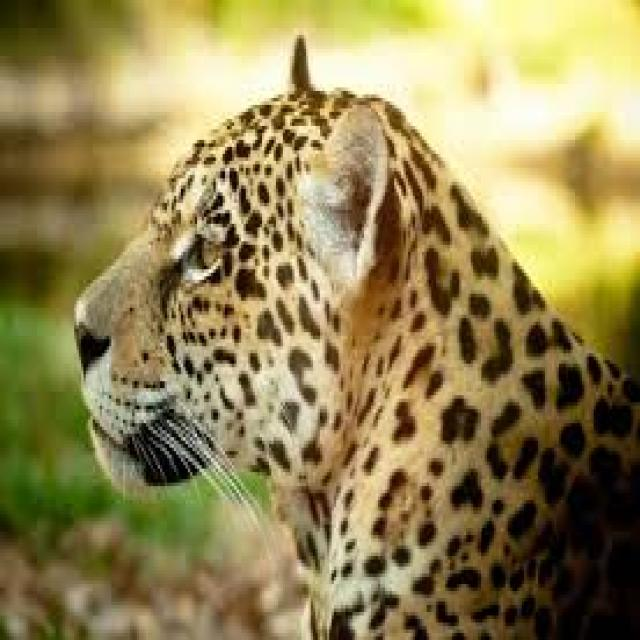Jaguar: (63, 24, 605, 633)
